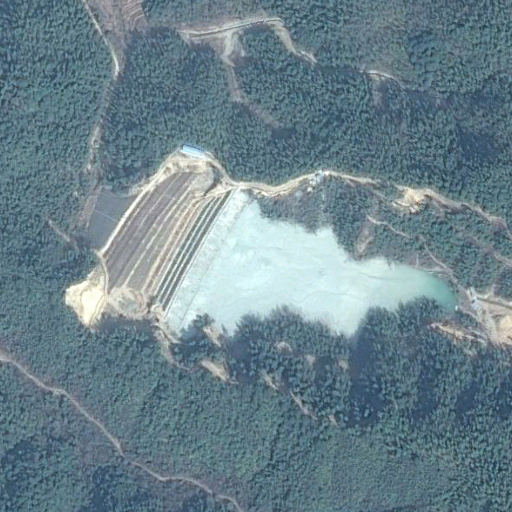tp: (62, 149, 466, 346)
